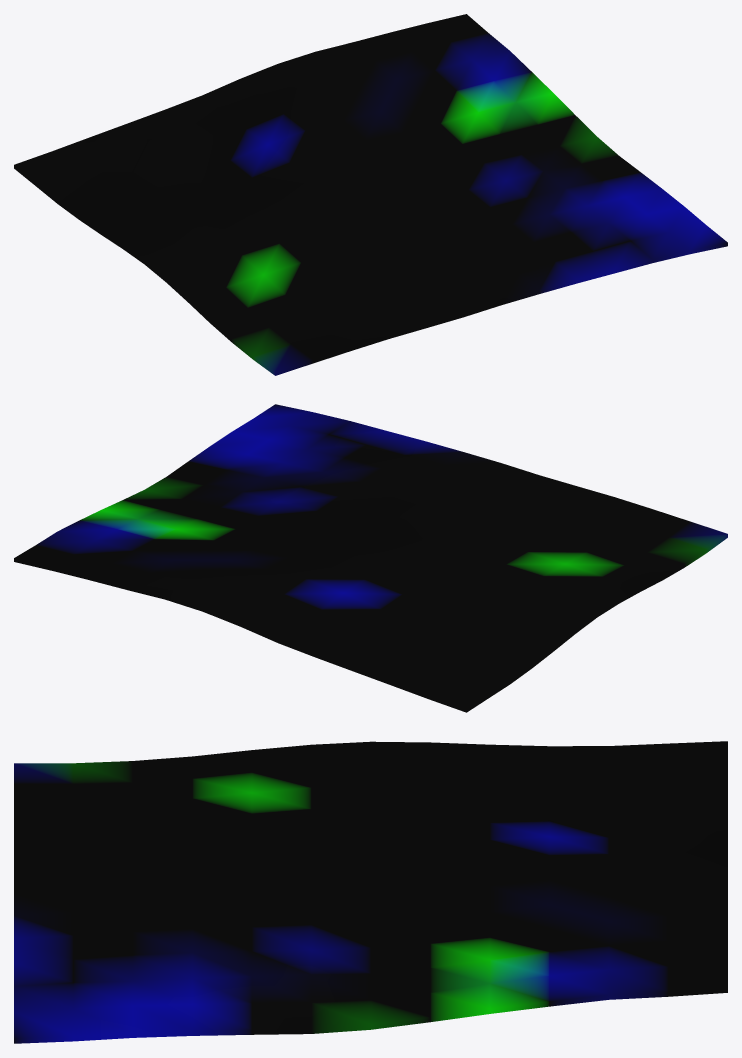
The model's file is coast_13_2.glb.
The picture shows the model from 3 angles, top to bottom: view 1: azimuth 30°, elevation 25°; view 2: azimuth 150°, elevation 25°; view 3: azimuth 270°, elevation 25°; orthographic projection. The views are drawn at different scales.
Visible parts, largest first — view 1: terrain; view 2: terrain; view 3: terrain.
Boxes of the visible parts, x1,y1,x2,y2 form: terrain: (14, 14, 727, 375); terrain: (14, 404, 727, 712); terrain: (14, 741, 727, 1043).
Bounding box in the file's own units: 192 × 24.55 × 192.
